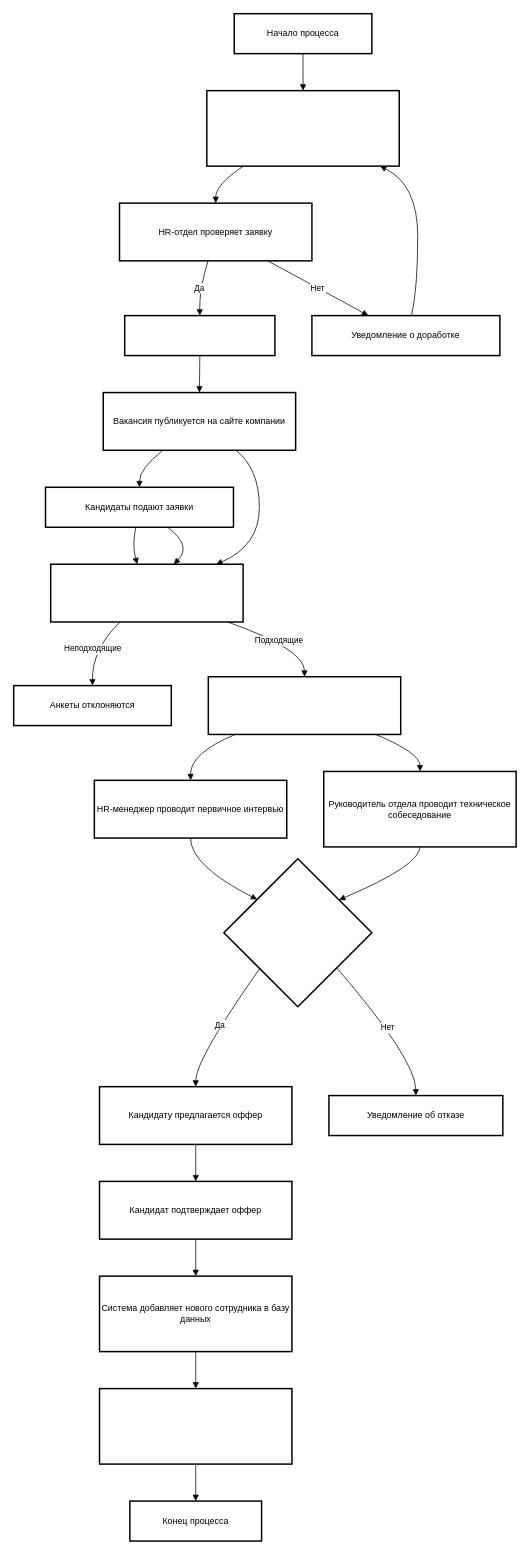
The diagram is 529 pixels wide and 1554 high, and some of its shapes have lost their labels. The shapes that lost their labels are listed below. From the top down, each one's box as (x1, y1, x2, y2) in pixels, then its label:
(206, 90, 400, 166): Руководитель отдела создает заявку на вакансию
(124, 314, 275, 356): Заявка утверждена
(50, 563, 243, 622): HR-отдел проверяет анкеты кандидатов
(207, 676, 401, 735): Приглашение на собеседование
(223, 858, 372, 1007): Успешно пройдено?
(98, 1388, 292, 1464): HR-отдел уведомляет IT-отдел о настройке рабочего места
